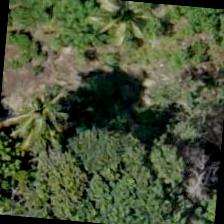Kelapa_Sawit: (0, 76, 96, 175)
